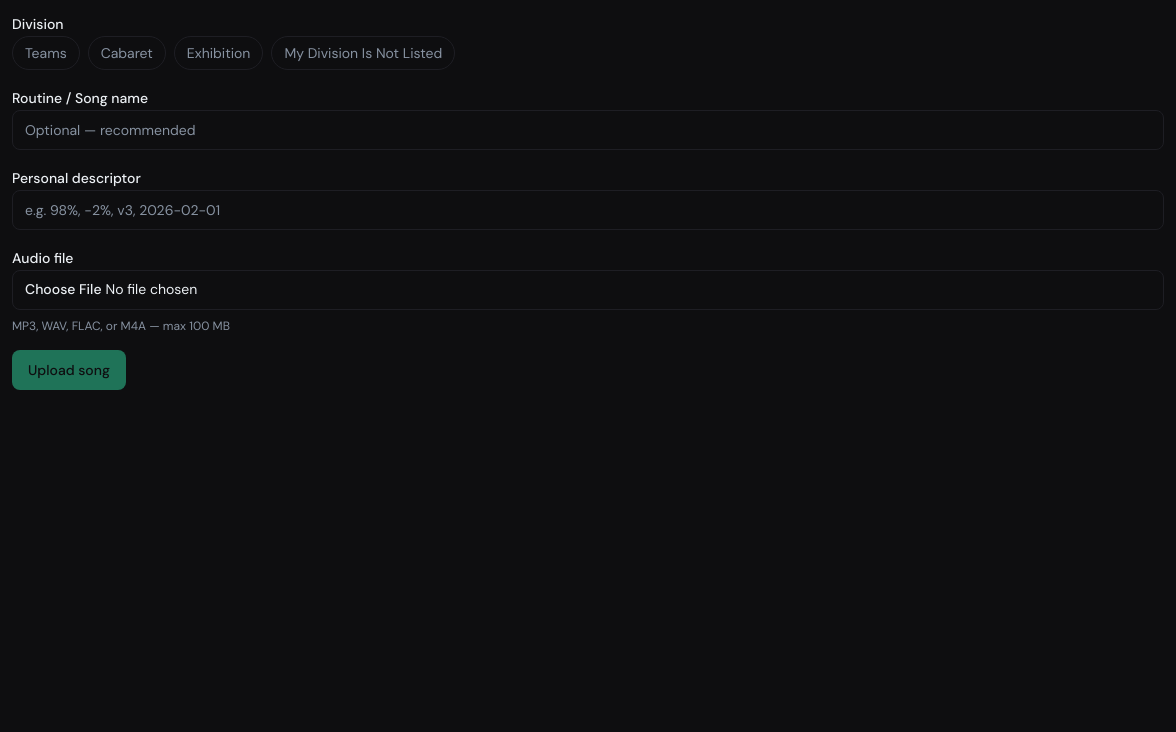
Test case: SpecialUploadForm › still renders the form when teams fail to load, and says so where teams are picked
Click the radio button labelled "Teams" at (46, 53), box [12,36,80,70]
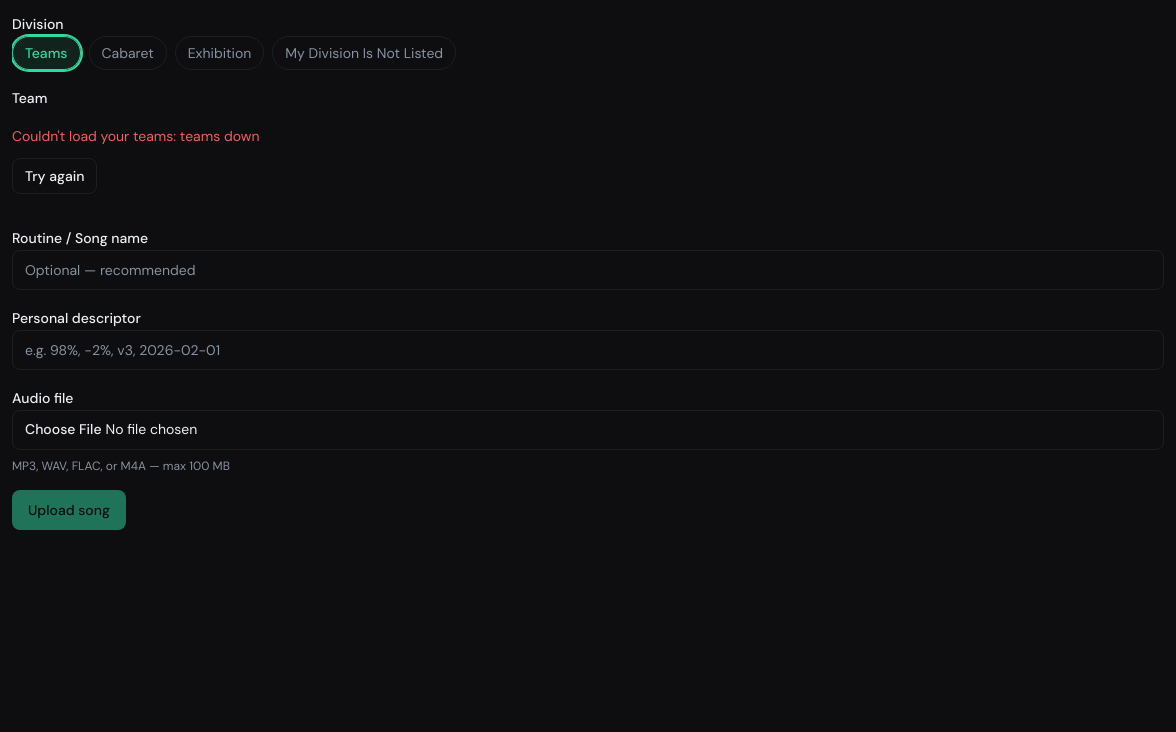
Result: the message shows "Couldn't load your teams: teams down" at [12,127,260,194]
